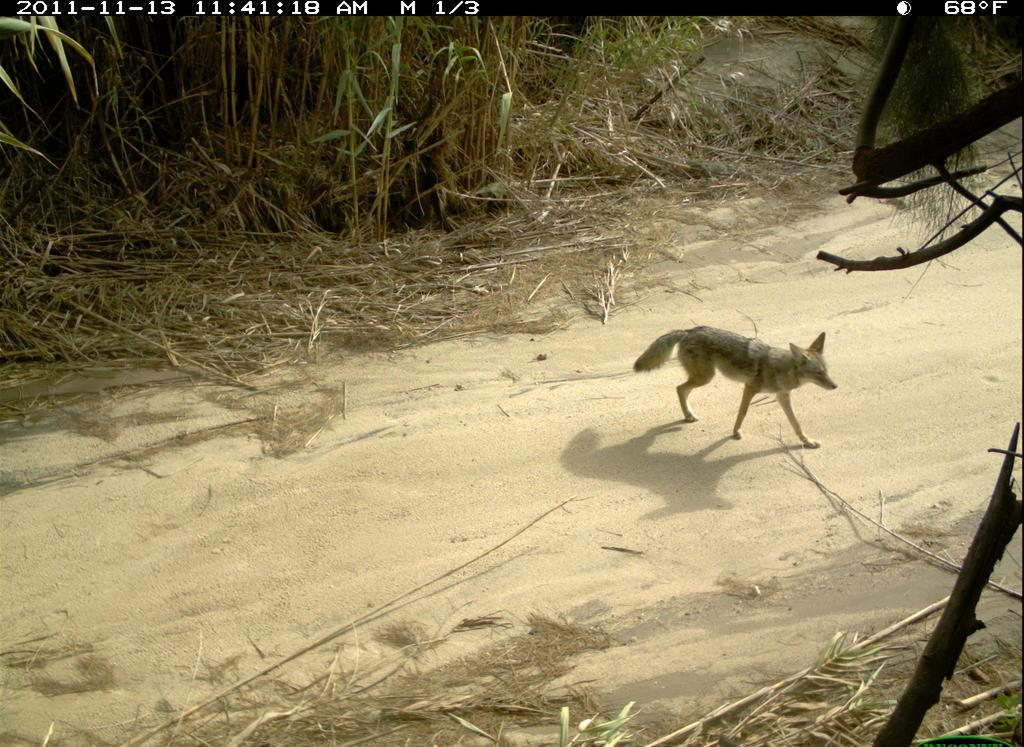coyote: (632, 315, 839, 460)
